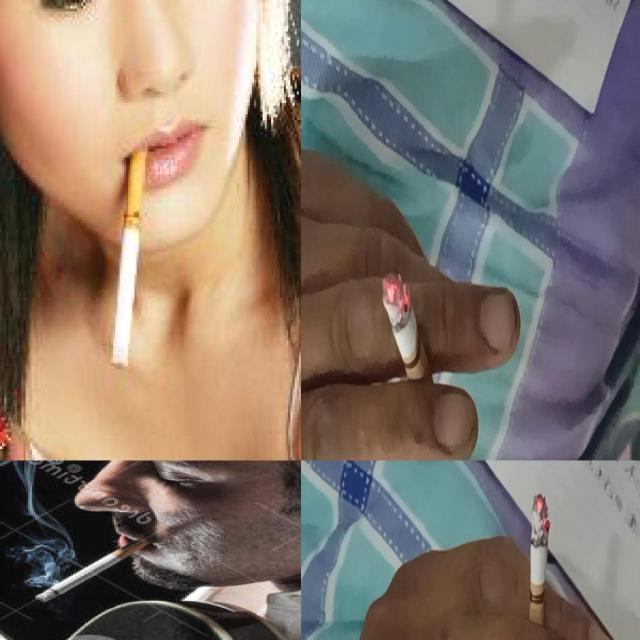smoke: (110, 142, 148, 372), (380, 269, 440, 406), (33, 537, 153, 604), (527, 492, 550, 640)
